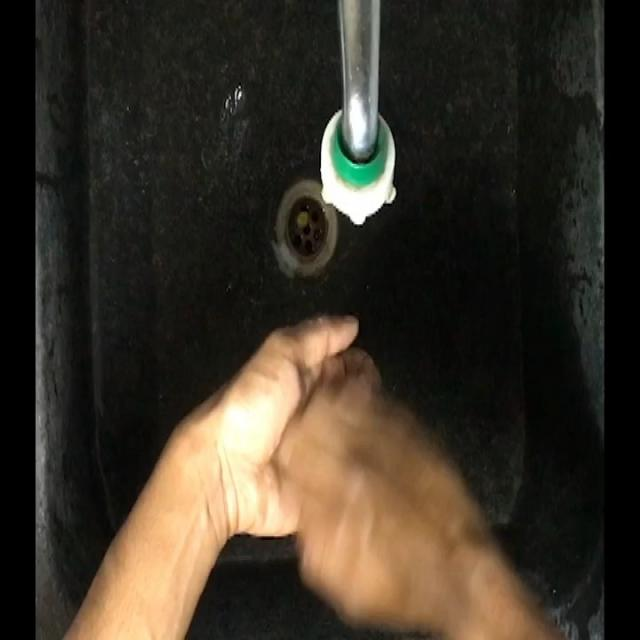step_4: (209, 305, 492, 563)
